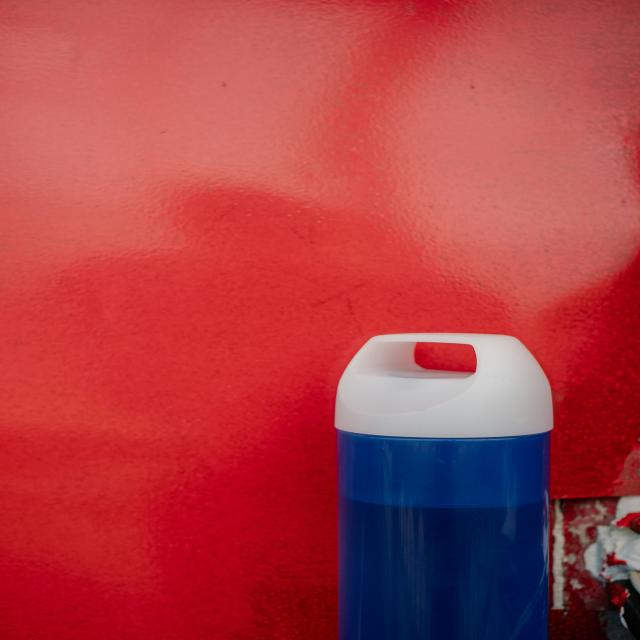blue_bottle: (332, 330, 558, 640)
